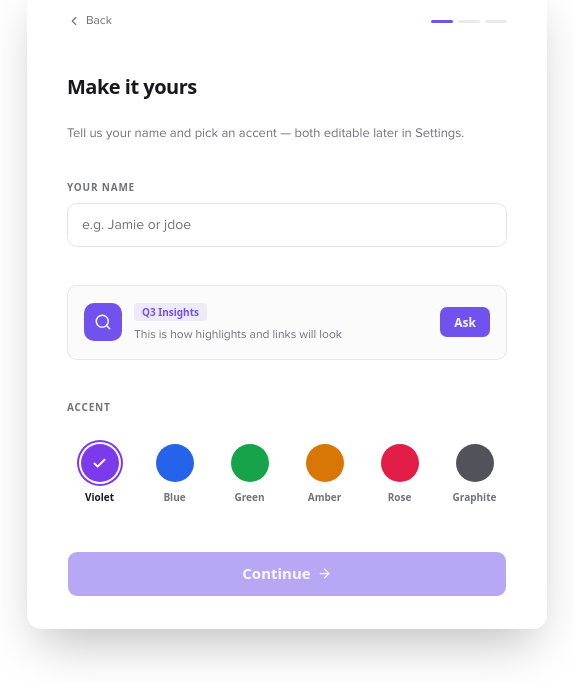
MakeItYours › Continue becomes enabled after typing a name
expect the button "Continue" is disabled: met, box [67,551,507,597]
Type "Jamie" into the field with placeholder "e.g. Jamie or jdoe" at {"x": 287, "y": 225}, box [67,203,507,247]
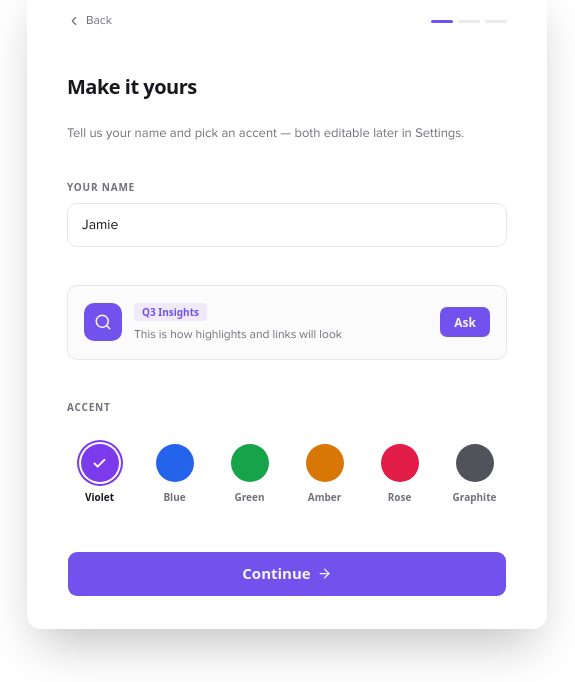
expect the button "Continue" is enabled: met, box [67,551,507,597]
